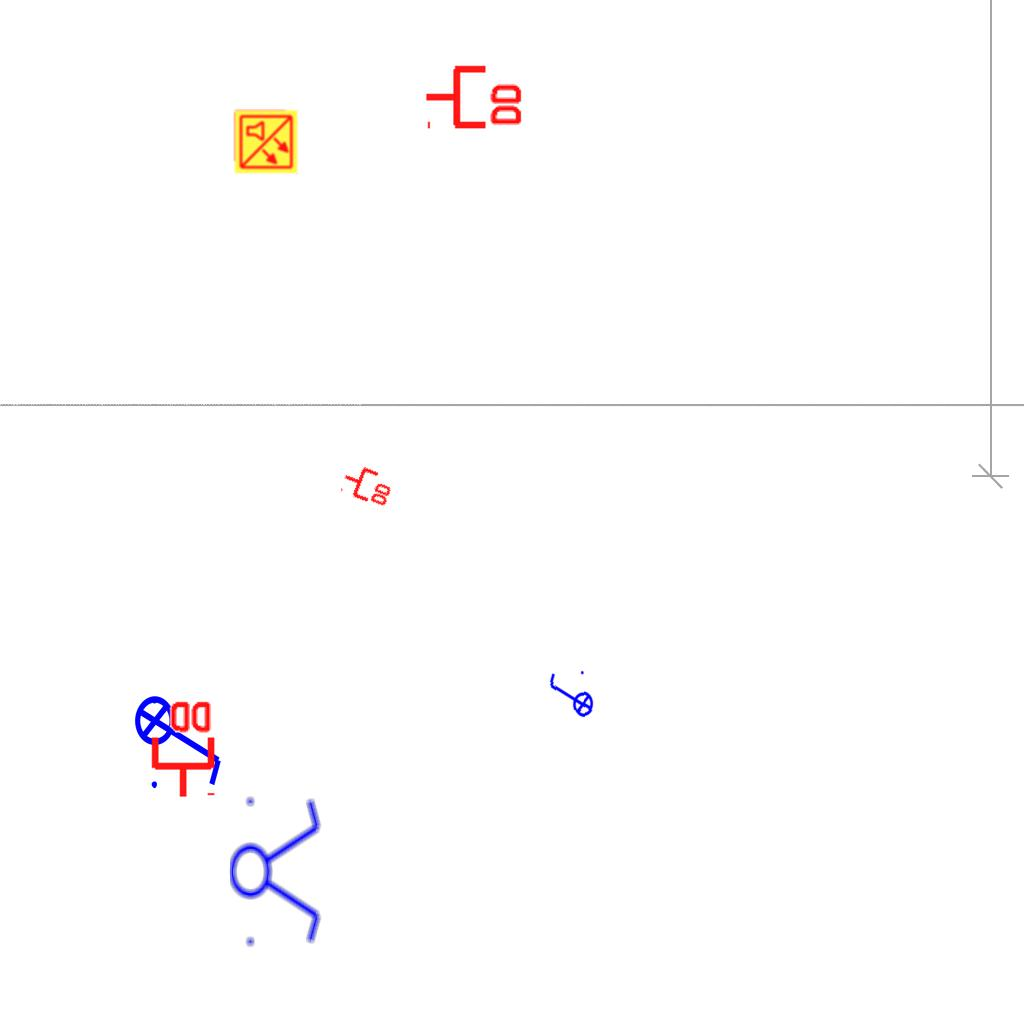Ausschalter_beleuchtet: (133, 682, 229, 794), (545, 667, 595, 725)
Datenanschluss_zweifach: (423, 61, 526, 130), (147, 697, 216, 800), (338, 459, 398, 510)
OKW_Multisensormelder_(Kombination_optischer_Rauch-Kahlenmonoxid_Waerme-Melder): (233, 109, 299, 175)
Serienschalter: (228, 786, 324, 954)
